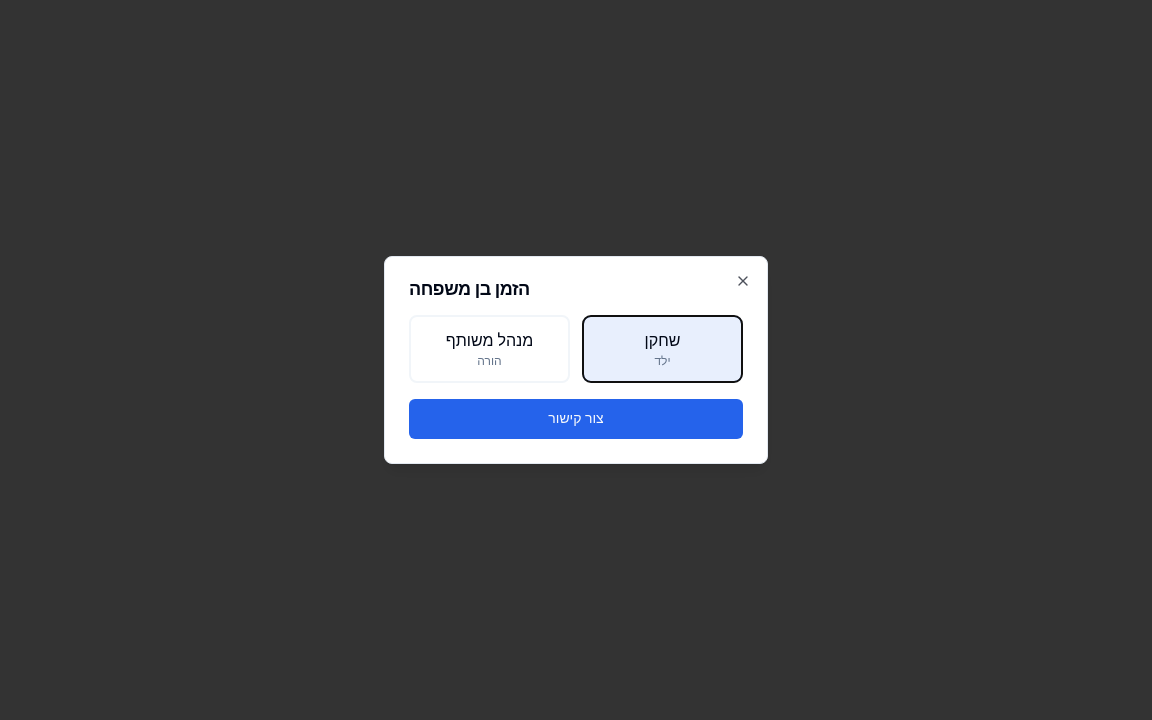
Test: InviteDialog › shows error message when generateInvite throws
What coordinates should you click on to do the following:
click the button "צור קישור"
I would click on:
 (576, 419)
Its box is [409,399,743,439].
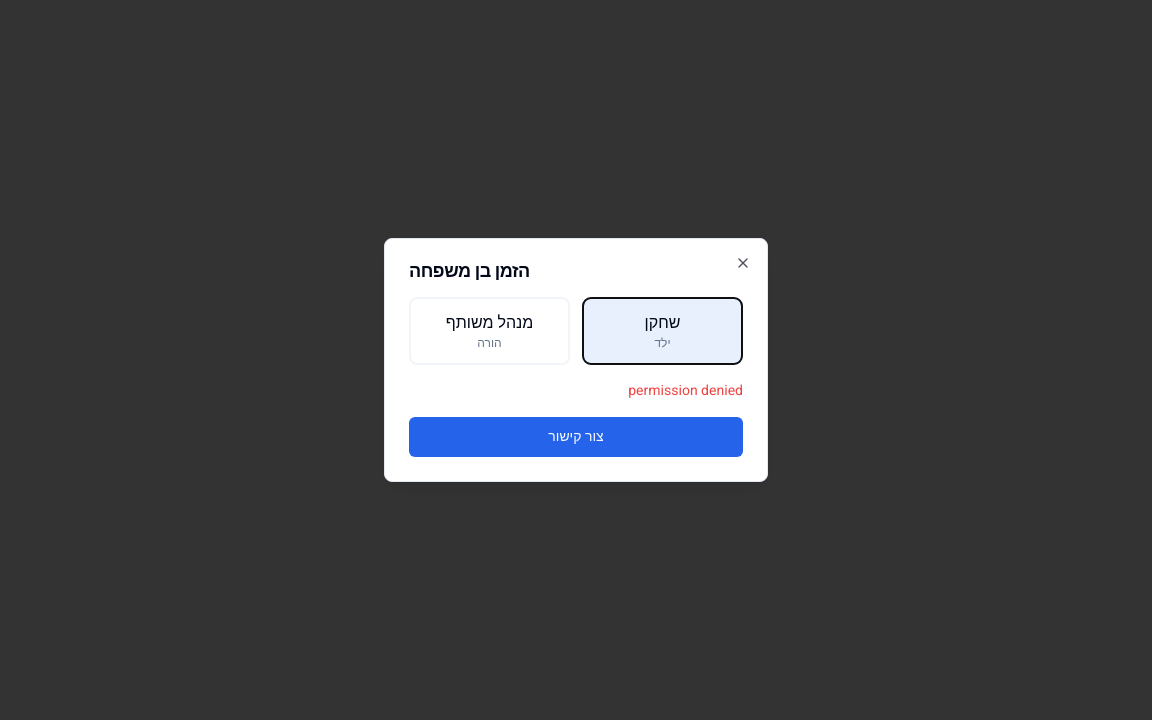
Check: the message reads "permission denied", box [628,380,743,401]
